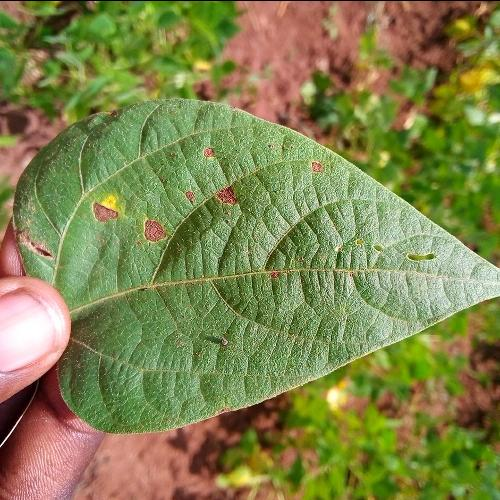embun tepung: (308, 200, 382, 340), (66, 300, 182, 384)
hawar: (50, 148, 257, 280)
